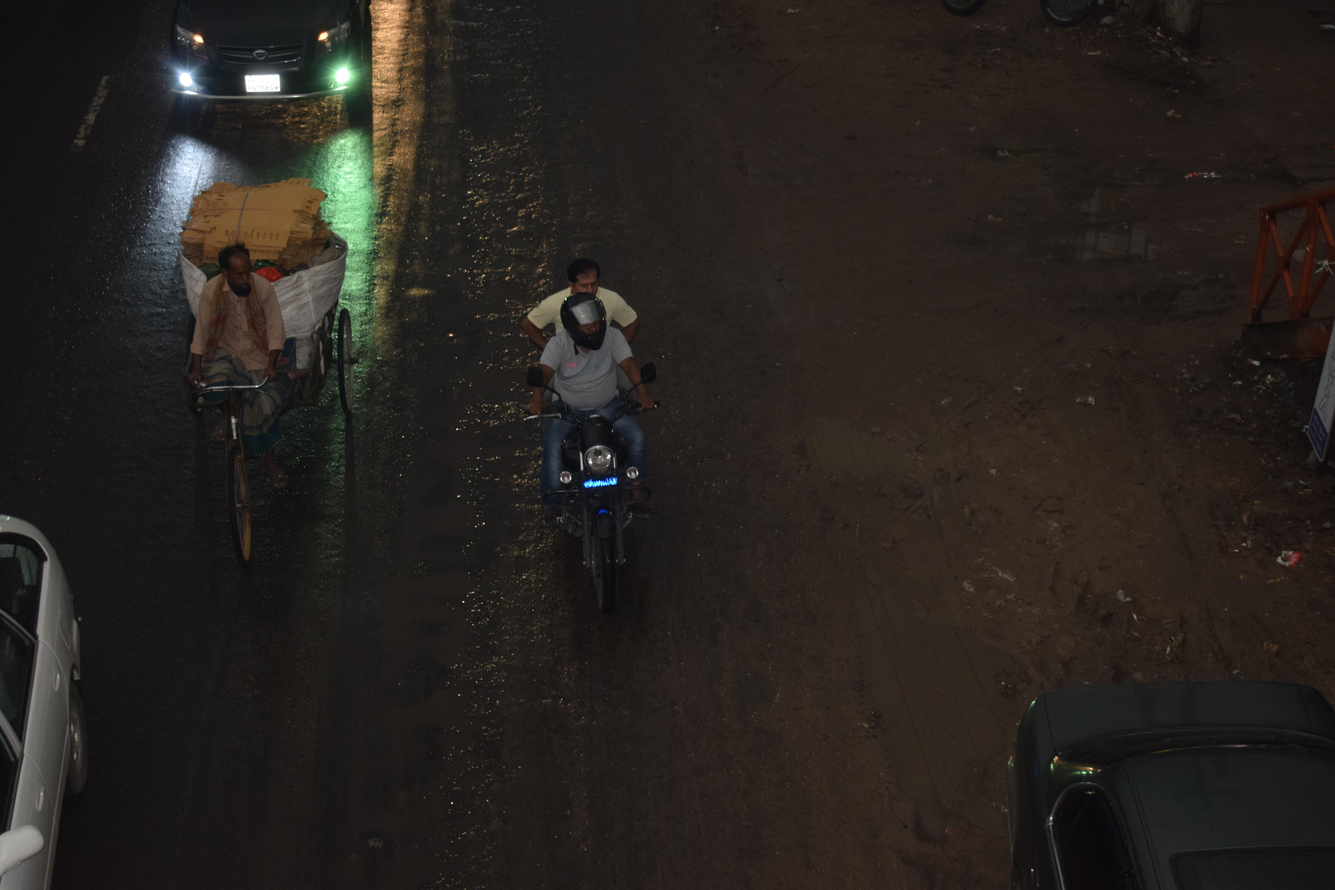Bike: (473, 234, 715, 649)
Car: (132, 158, 406, 601), (964, 611, 1335, 890), (0, 462, 152, 890), (142, 0, 407, 156)
